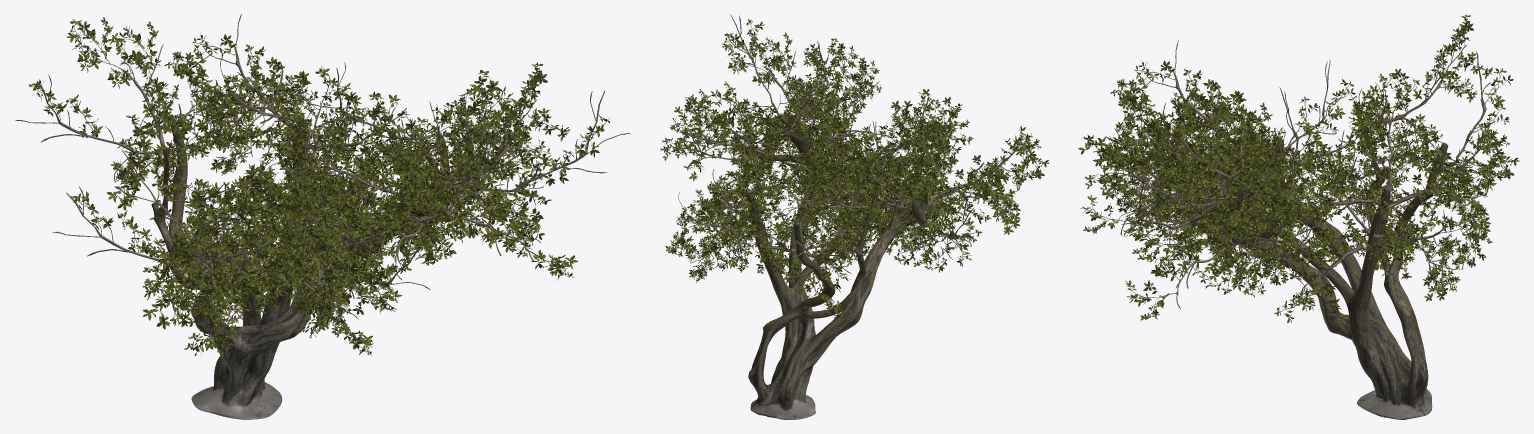
File: island_tree_02.glb
The picture shows the model from 3 angles, left to right: view 1: azimuth 30°, elevation 25°; view 2: azimuth 150°, elevation 25°; view 3: azimuth 270°, elevation 25°; orthographic projection. The views are drawn at different scales.
Parts seen in each view (by area): view 1: island_tree_02_LOD0; view 2: island_tree_02_LOD0; view 3: island_tree_02_LOD0.
Part boxes in pixels (x1,y1,x2,y2): island_tree_02_LOD0: [15, 14, 630, 419]; island_tree_02_LOD0: [660, 14, 1049, 419]; island_tree_02_LOD0: [1078, 14, 1519, 419].
Size of the model in its own units: 4.21 by 3.41 by 4.07.
3 materials, 3 textured.
